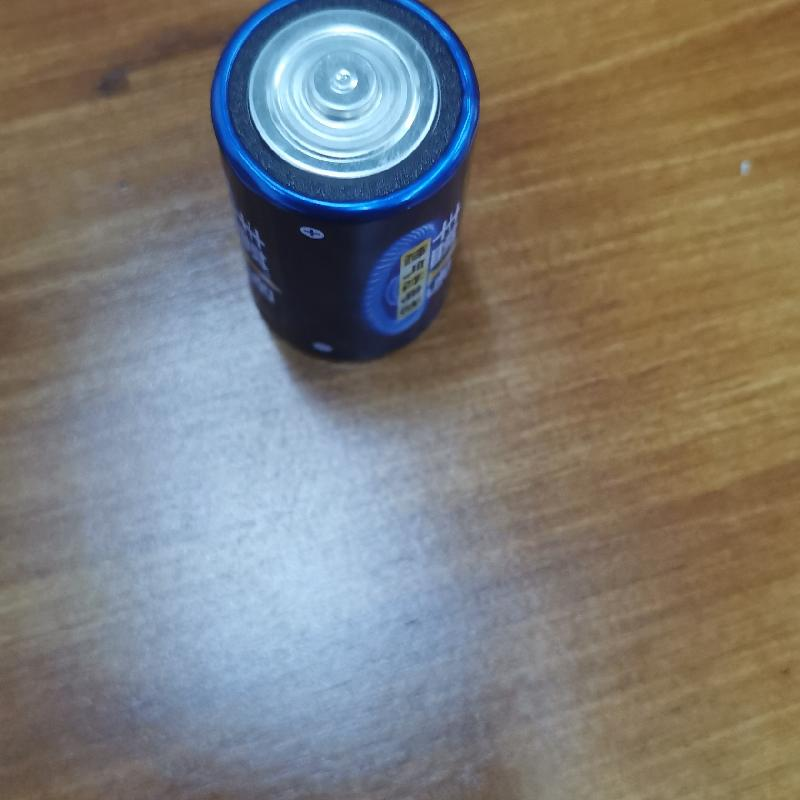battery: (209, 0, 481, 364)
